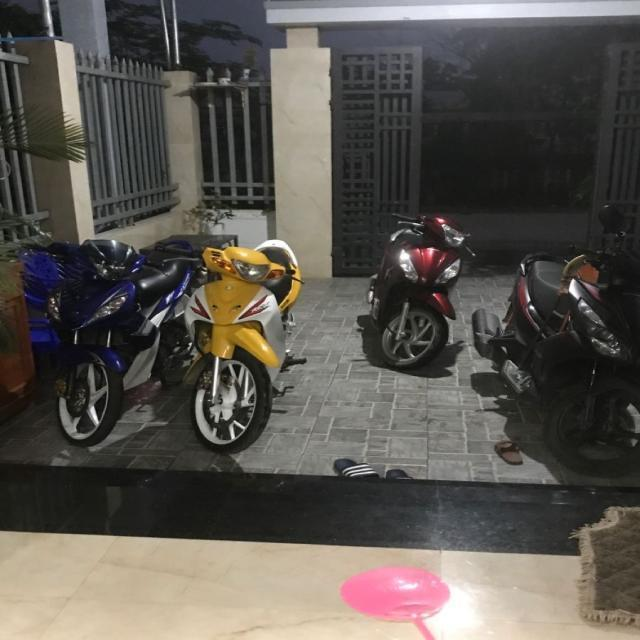motorcycle: (476, 230, 640, 475), (13, 232, 184, 455), (181, 233, 312, 452), (364, 210, 458, 374)
